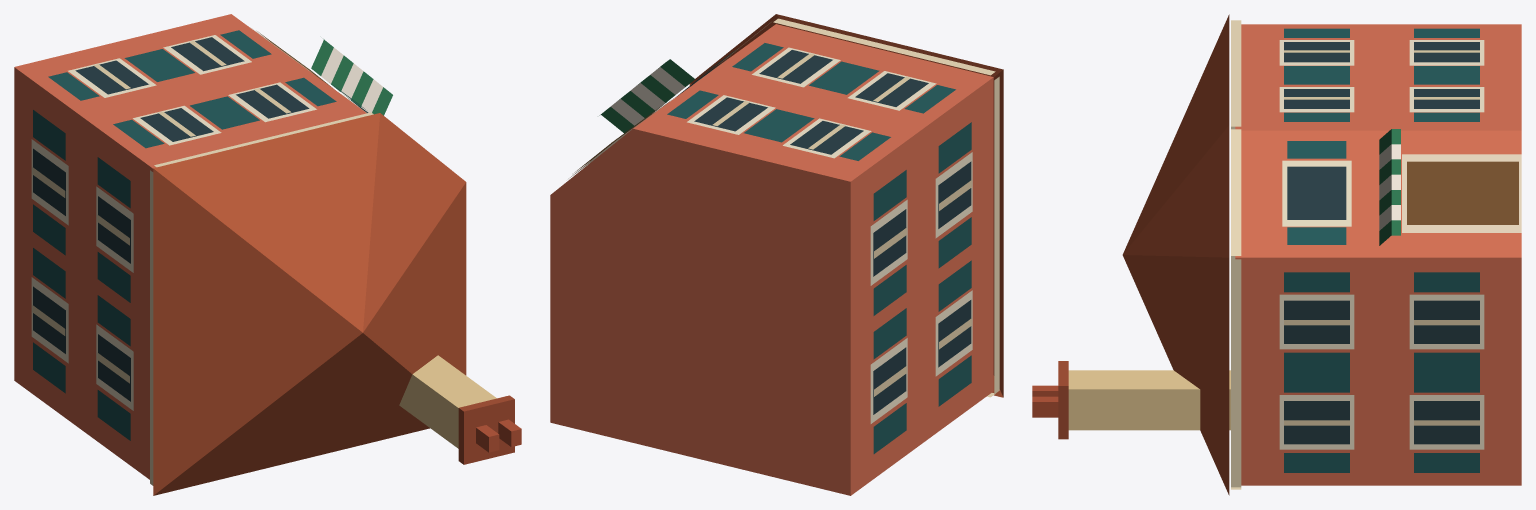
Rendered from house-3.obj.
3 renders of one model, left to right at view 1: azimuth 30°, elevation 25°; view 2: azimuth 150°, elevation 25°; view 3: azimuth 270°, elevation 25°, orthographic.
Size of the model in its own units: 2.14 by 2.14 by 2.82.
